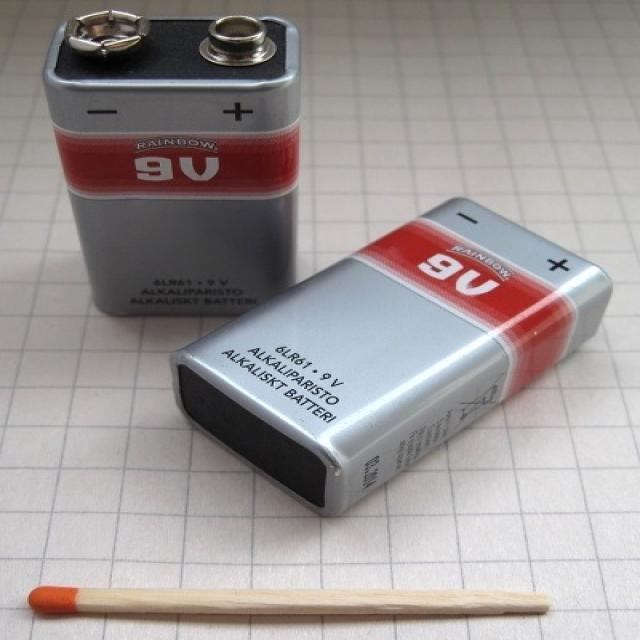Hazard: (168, 196, 616, 520), (42, 11, 304, 320), (29, 584, 552, 618)
